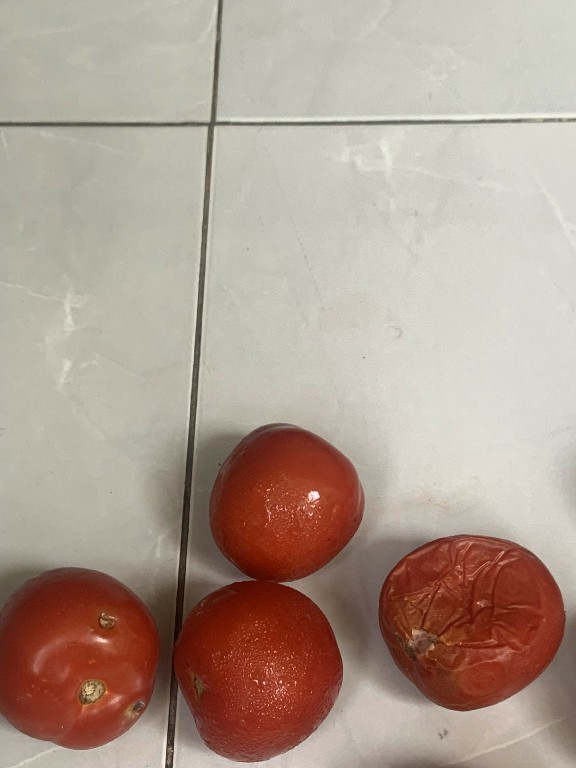NG: (1, 527, 168, 768), (374, 522, 568, 725)
OK: (172, 573, 356, 766), (201, 412, 365, 584)
